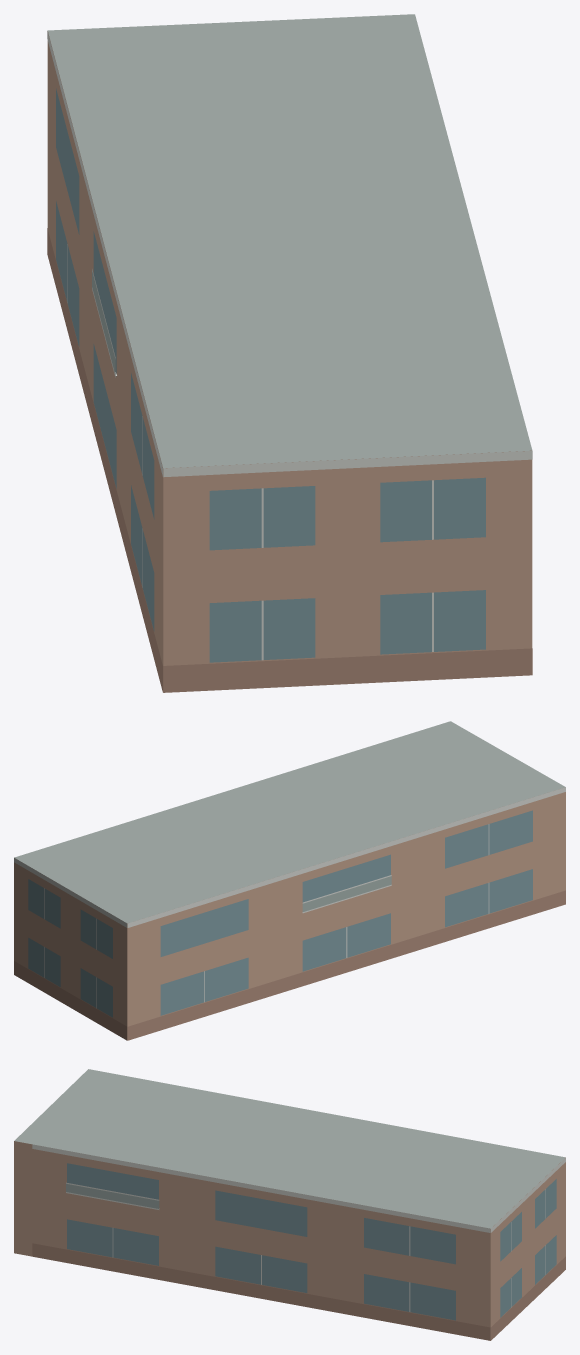
Rendered from survey-upis-32566878.glb.
The picture shows the model from 3 angles, top to bottom: view 1: azimuth 30°, elevation 25°; view 2: azimuth 150°, elevation 25°; view 3: azimuth 270°, elevation 25°; orthographic projection. The views are drawn at different scales.
Visible parts, largest first — view 1: survey-upis-32566878.tmp; view 2: survey-upis-32566878.tmp; view 3: survey-upis-32566878.tmp.
Part boxes in pixels (left/top/right/bottom): survey-upis-32566878.tmp: left=47, top=14, right=532, bottom=692; survey-upis-32566878.tmp: left=14, top=721, right=565, bottom=1040; survey-upis-32566878.tmp: left=14, top=1069, right=565, bottom=1340.
Size of the model in its own units: 18.61 by 6.1 by 27.18.
